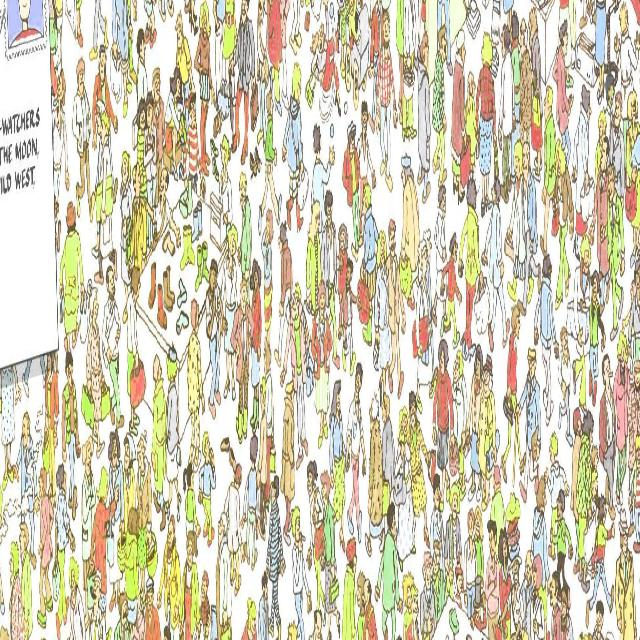waldo: (184, 92, 197, 129)
